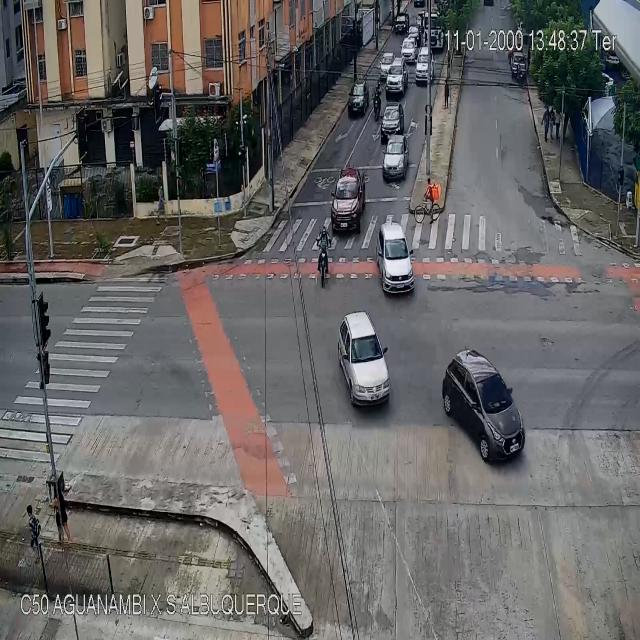Car: (442, 351, 530, 459), (338, 312, 391, 410), (375, 223, 414, 294), (330, 166, 366, 234), (383, 136, 405, 175), (386, 61, 408, 94), (382, 105, 404, 137), (416, 46, 434, 85), (348, 84, 365, 119), (512, 49, 526, 80), (407, 20, 422, 45), (380, 52, 394, 78), (395, 15, 411, 33), (401, 37, 413, 59)
Motorcycle: (316, 227, 331, 290), (372, 80, 380, 121), (516, 59, 522, 81)
Truck: (425, 14, 447, 49)
